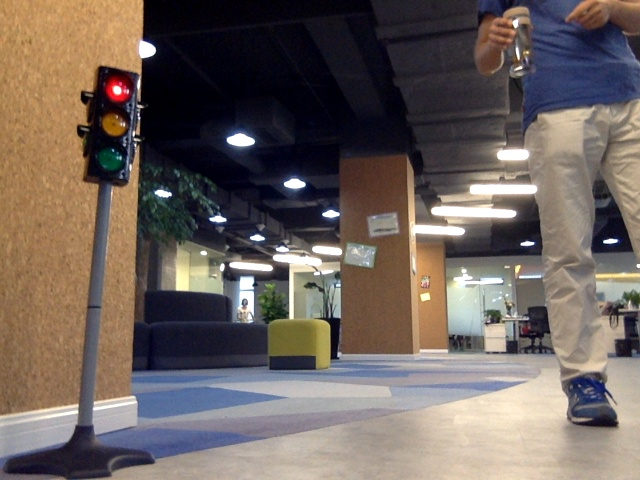red: (97, 69, 130, 177)
